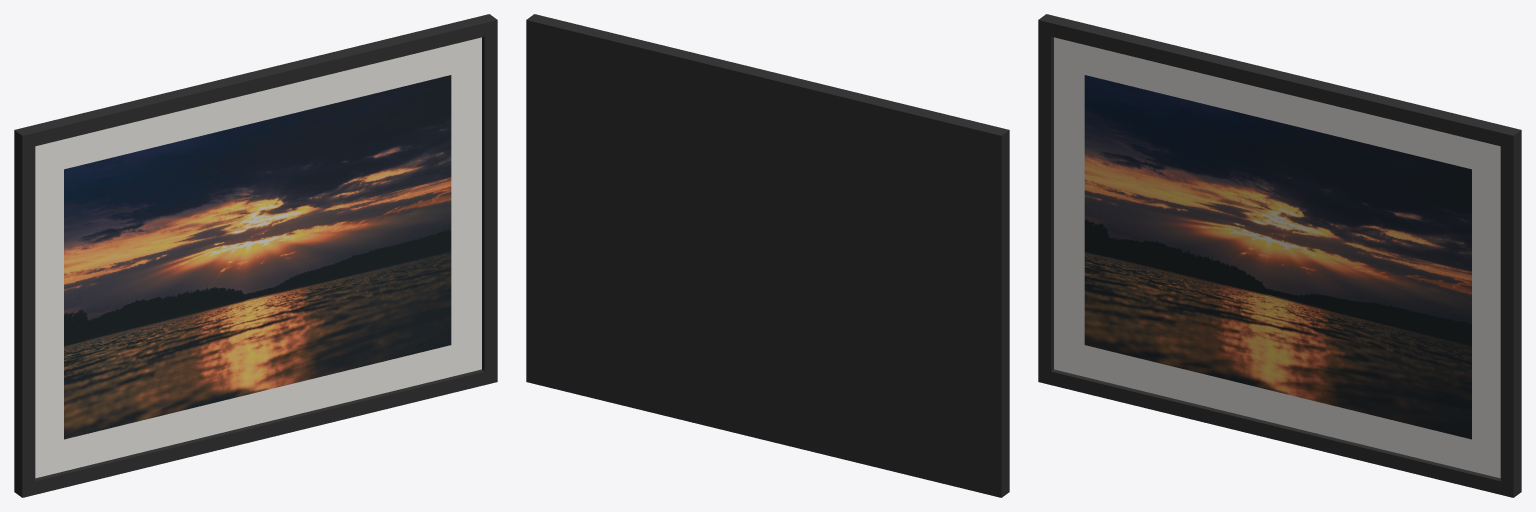
Rendered from solnedgangen-60.gltf.
The picture shows the model from 3 angles, left to right: view 1: azimuth 30°, elevation 25°; view 2: azimuth 150°, elevation 25°; view 3: azimuth 330°, elevation 25°; orthographic projection.
Visible parts, largest first — view 1: tavla; view 2: tavla; view 3: tavla.
Boxes of the visible parts, <box> form: tavla: <box>14,14,497,497</box>; tavla: <box>526,14,1009,497</box>; tavla: <box>1038,14,1521,497</box>.
Size of the model in its own units: 0.7359 by 0.5356 by 0.022.
Materials: 3 (1 with a texture image).
